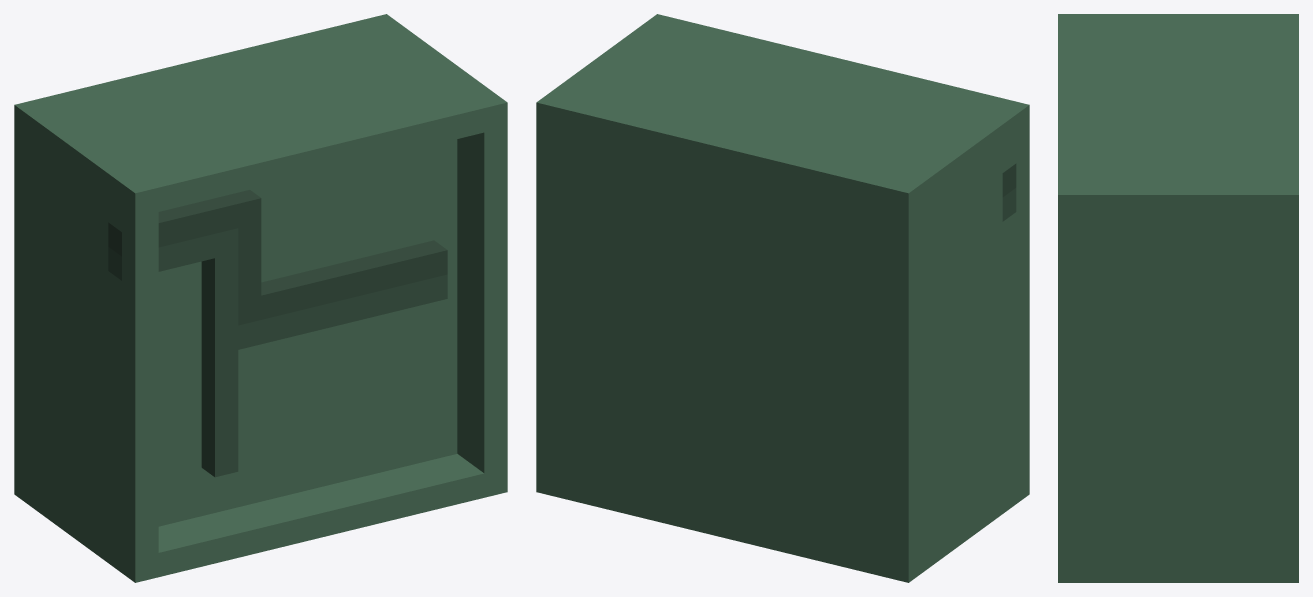
File: wall_new_3.obj
3 views of the same model, side by side, from view 1: azimuth 30°, elevation 25°; view 2: azimuth 150°, elevation 25°; view 3: azimuth 270°, elevation 25° (orthographic).
Bounding box in the file's own units: 16 × 16 × 9.
1 material, 1 textured.
